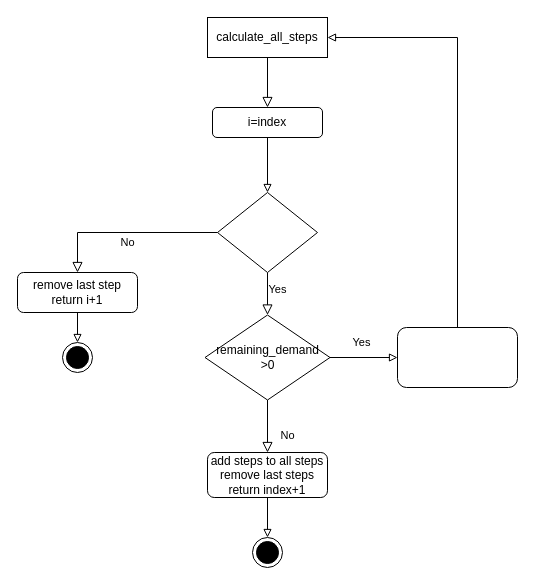
The diagram is 535 pixels wide and 585 high, and some of its shapes have lost their labels. Each missing label, with the box of its shape:
create step add step to steps: (396, 326, 518, 388)
i<len(ships): (216, 192, 318, 272)
